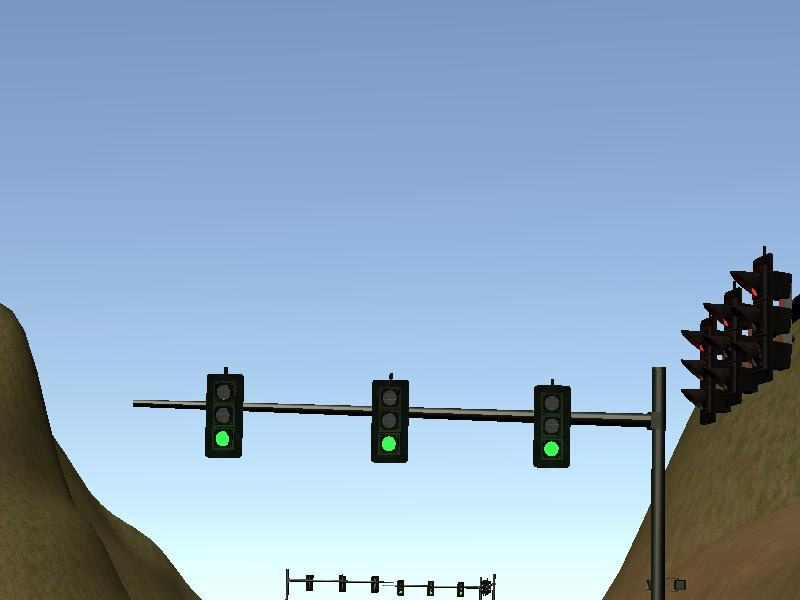green: (201, 364, 253, 462), (368, 372, 412, 469), (529, 380, 573, 473)
